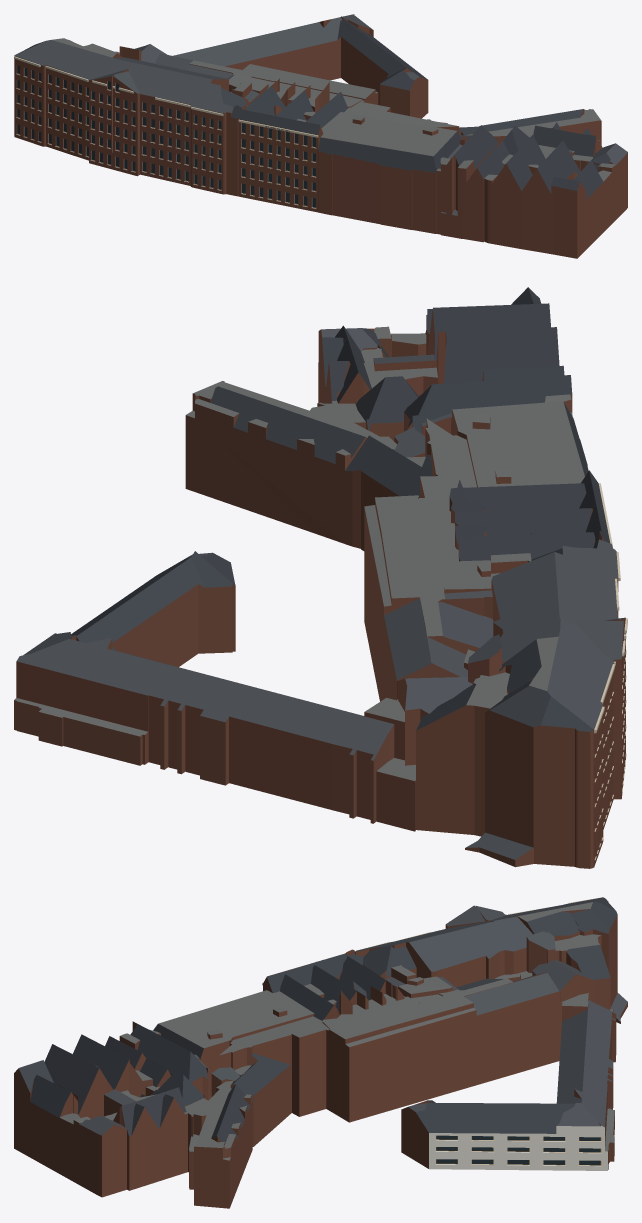
Rendered from recipe-large-oude-turfmarkt-168172.glb.
The picture shows the model from 3 angles, top to bottom: view 1: azimuth 30°, elevation 25°; view 2: azimuth 150°, elevation 25°; view 3: azimuth 270°, elevation 25°; orthographic projection. The views are drawn at different scales.
Parts seen in each view (by area): view 1: oude-turfmarkt-168172; view 2: oude-turfmarkt-168172; view 3: oude-turfmarkt-168172.
Boxes of the visible parts, <box> form: oude-turfmarkt-168172: <box>14,14,627,258</box>; oude-turfmarkt-168172: <box>14,287,627,868</box>; oude-turfmarkt-168172: <box>14,897,627,1208</box>.
Size of the model in its own units: 100 by 24.15 by 117.
